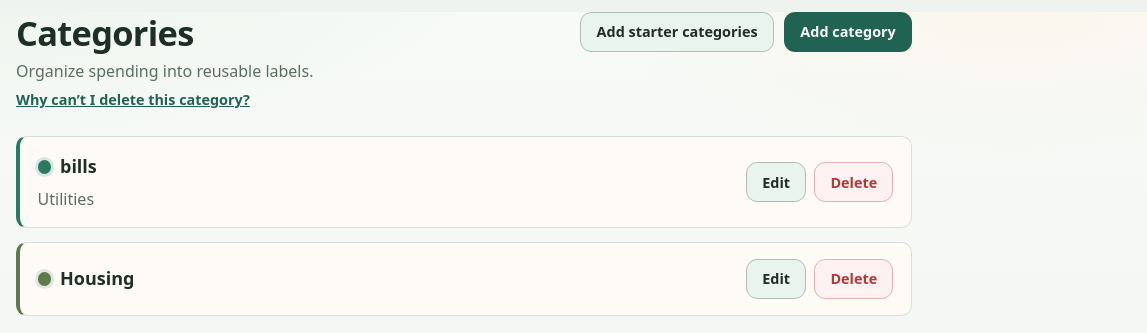
Scenario: CategoriesPage › deletes a category after confirmation
expect the heading "bills" is shown: met, box x1=38 y1=153 x2=97 y2=181
Click the button "Delete" in the row of "bills". click: (854, 182)
box: x1=814 y1=162 x2=893 y2=202
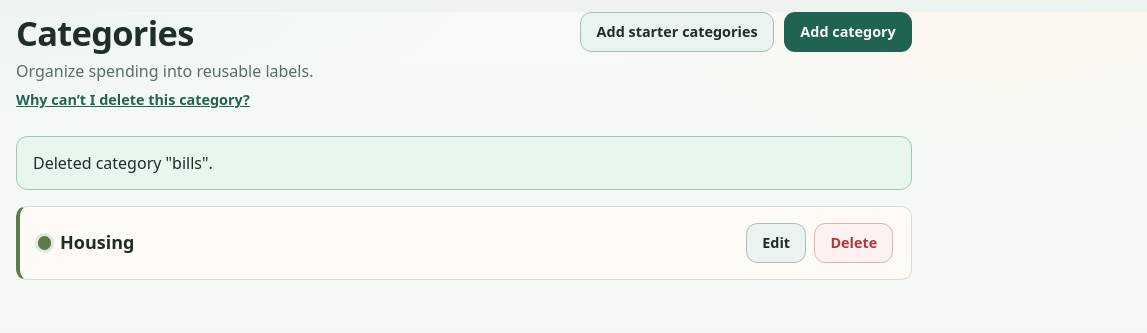
expect the message shows "Deleted category \"bills\"": met, box x1=33 y1=152 x2=213 y2=174
